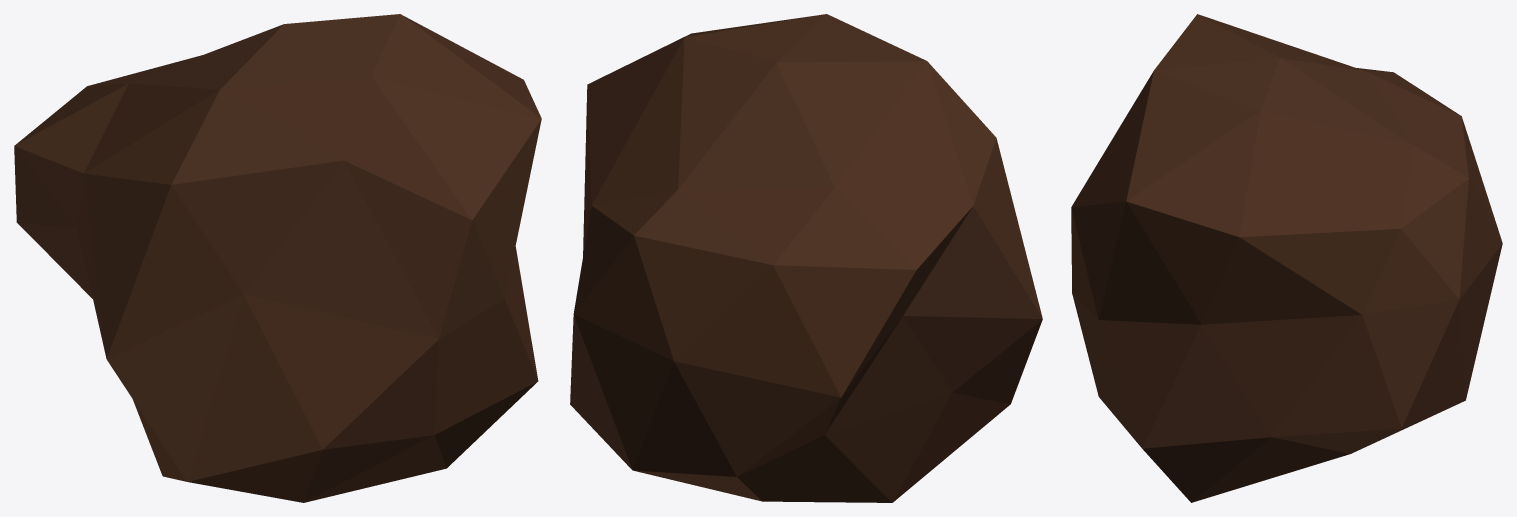
File: meteor_1.fbx
3 views of the same model, side by side, from view 1: azimuth 30°, elevation 25°; view 2: azimuth 150°, elevation 25°; view 3: azimuth 270°, elevation 25° (orthographic). The views are drawn at different scales.
Visible parts, largest first — view 1: Icosphere; view 2: Icosphere; view 3: Icosphere.
Boxes of the visible parts, x1,y1,x2,y2 form: Icosphere: [14, 14, 541, 502]; Icosphere: [570, 14, 1042, 502]; Icosphere: [1071, 14, 1502, 502].
Bounding box in the file's own units: 375 × 352 × 349.
